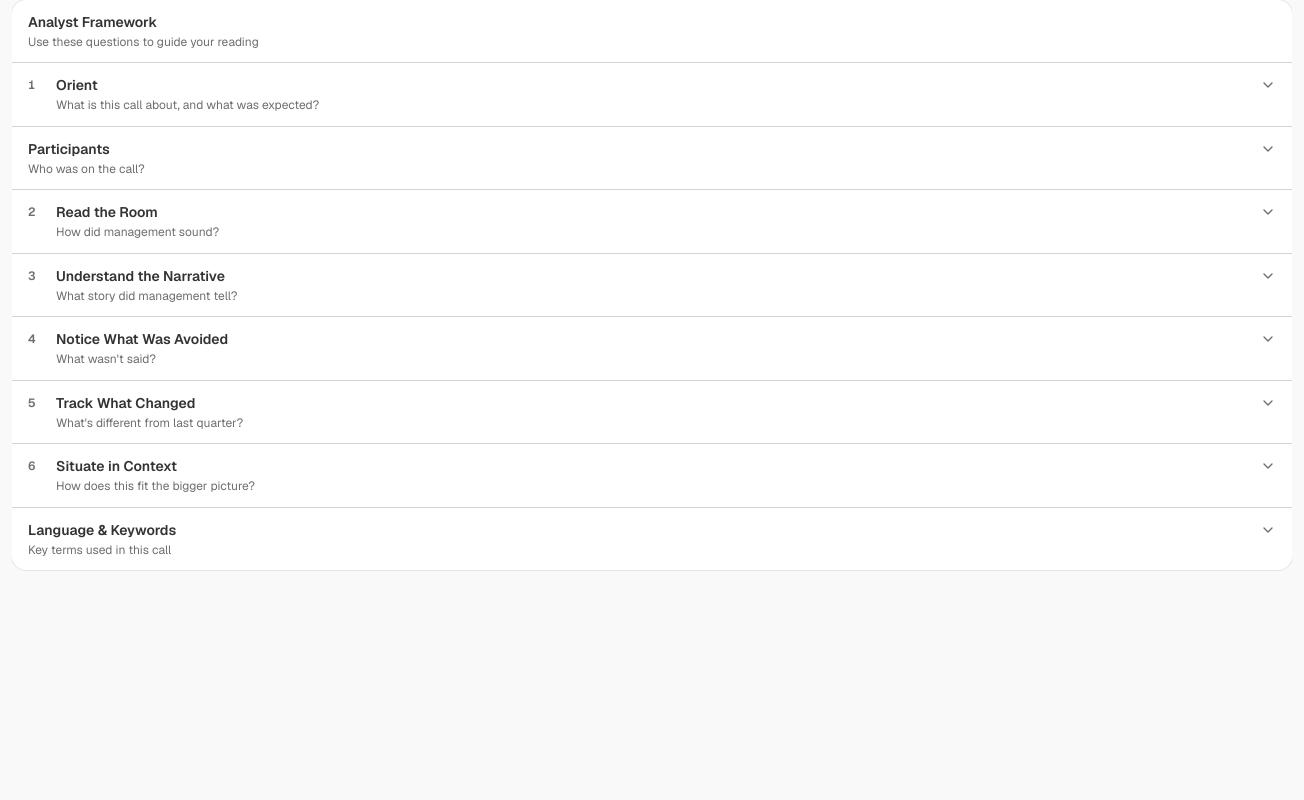
Test: MetadataPanel › shows Orient content after expanding
The image size is (1304, 800).
Click the text "Orient": (77, 85) 56,76 -> 98,94
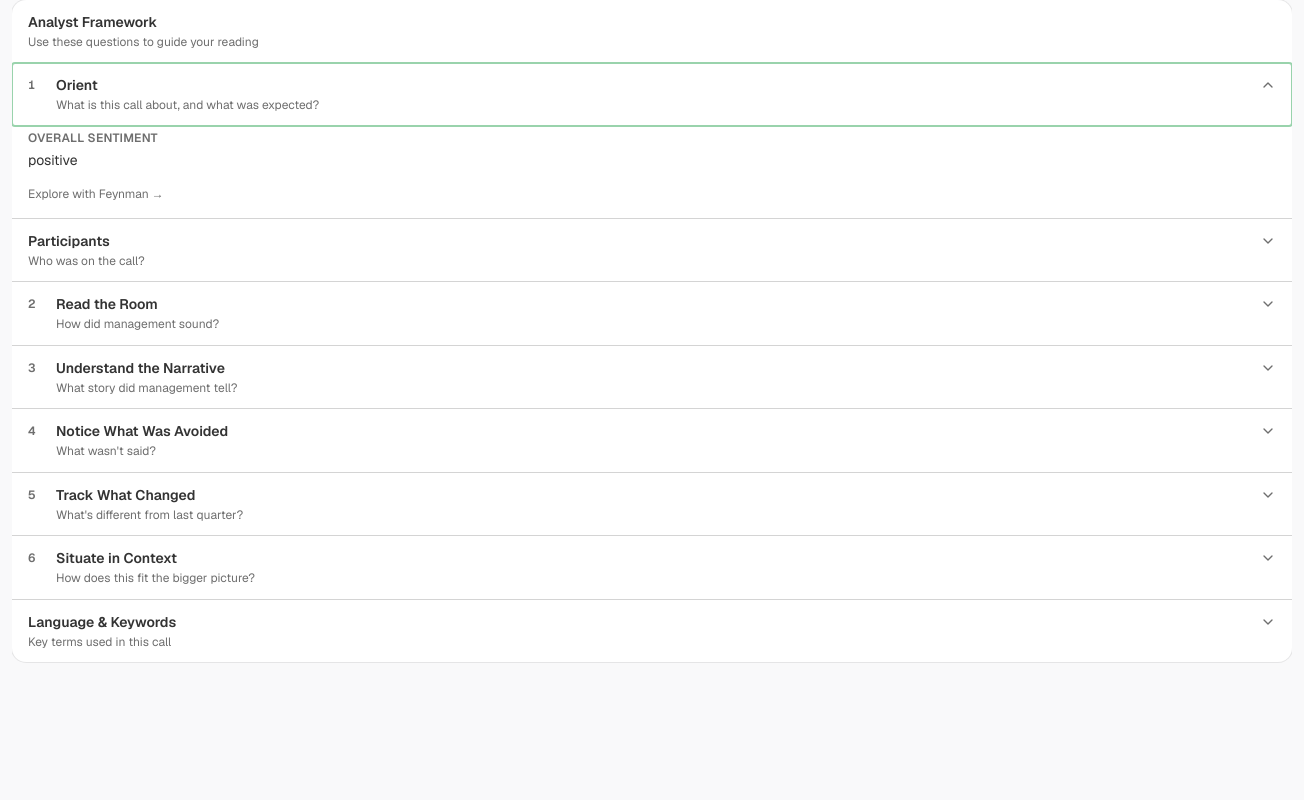
expect the text "positive" is shown: met, box 28,150 -> 78,168
